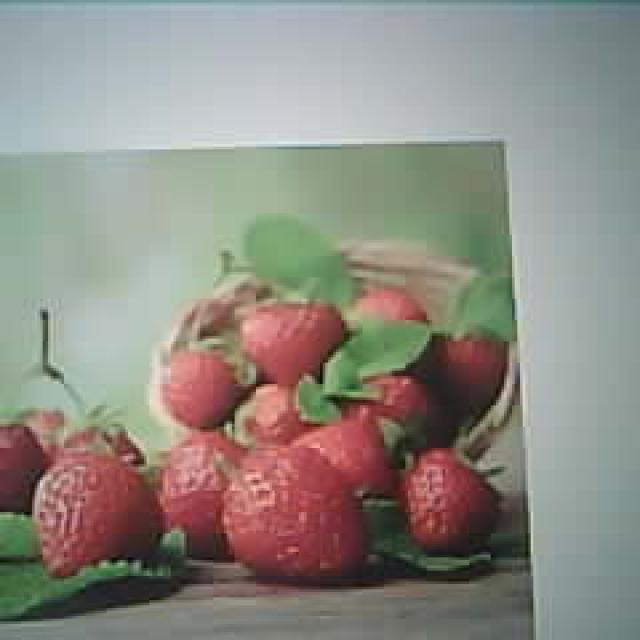strawberry: (224, 446, 364, 583), (32, 452, 158, 574), (408, 444, 502, 550)
